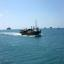fishing boat: (19, 17, 42, 38)
